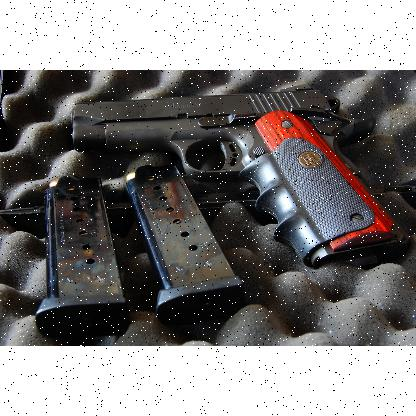gun: (71, 82, 409, 268)
